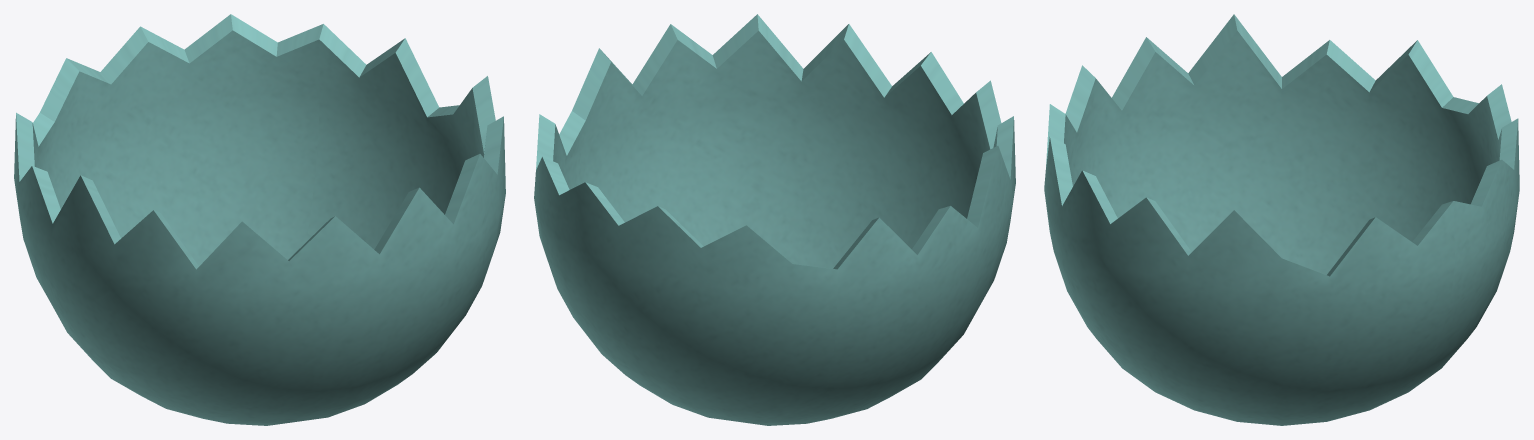
File: EggBottom.fbx
3 renders of one model, left to right at view 1: azimuth 30°, elevation 25°; view 2: azimuth 150°, elevation 25°; view 3: azimuth 270°, elevation 25°, orthographic. The views are drawn at different scales.
Parts seen in each view (by area): view 1: EggBottom; view 2: EggBottom; view 3: EggBottom.
Boxes of the visible parts, x1=… form: EggBottom: x1=14, y1=14, x2=505, y2=425; EggBottom: x1=534, y1=14, x2=1015, y2=425; EggBottom: x1=1044, y1=14, x2=1519, y2=425.
Bounding box in the file's own units: 1.73 × 1.16 × 1.73.
1 material, 1 textured.
